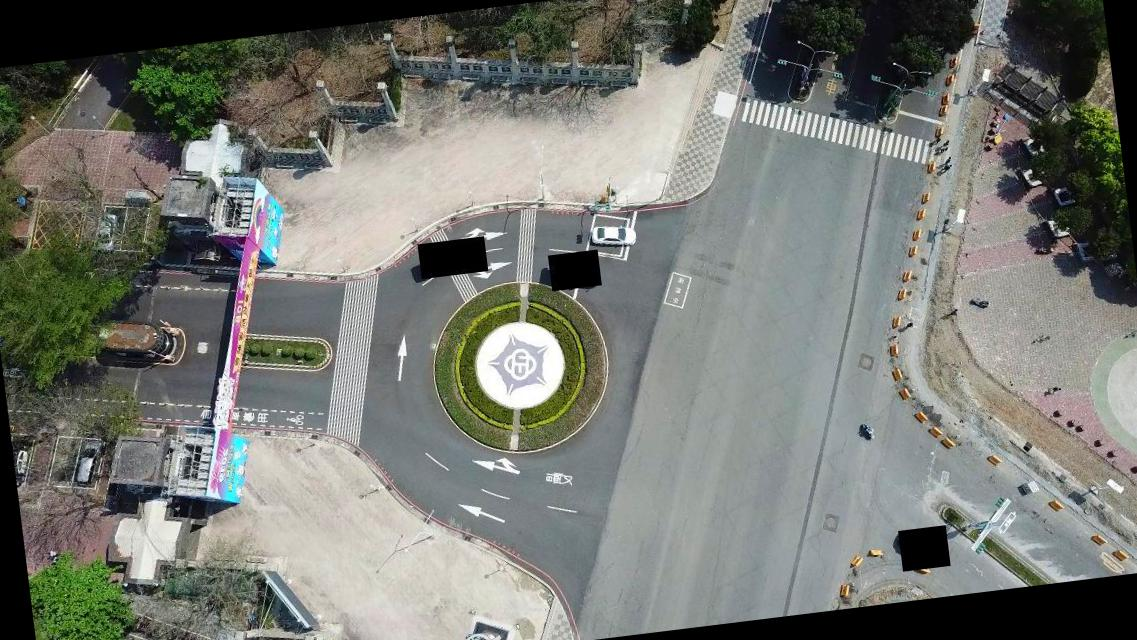vehicle: (72, 439, 108, 487), (92, 210, 123, 253), (590, 222, 637, 250), (11, 440, 37, 488)
